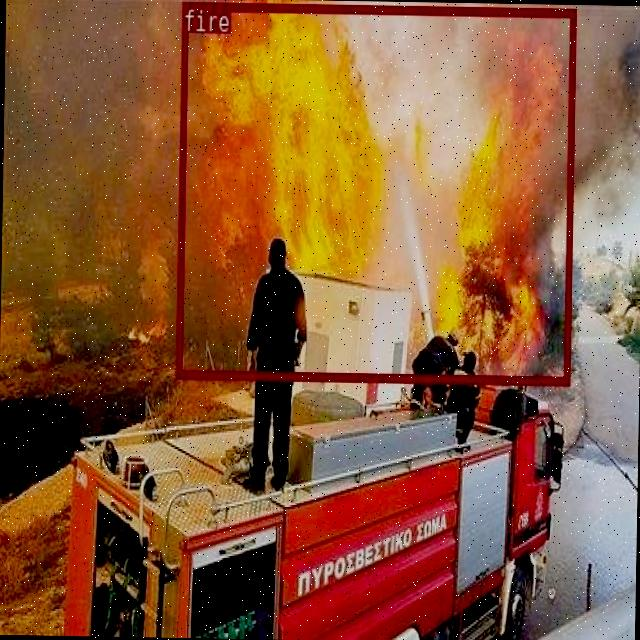fire: (175, 0, 575, 383)
